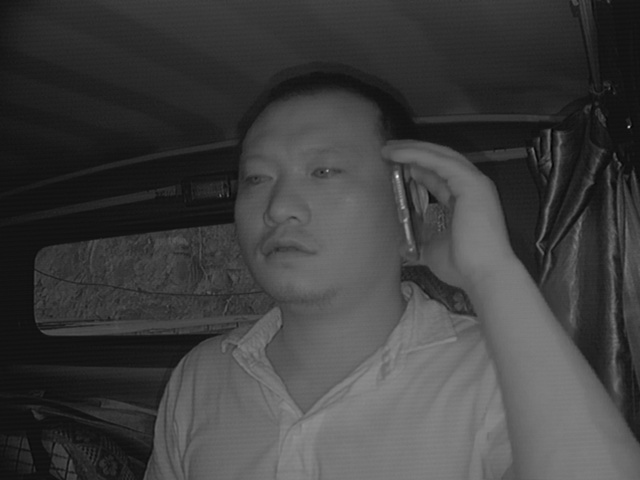hand: (382, 132, 500, 282)
